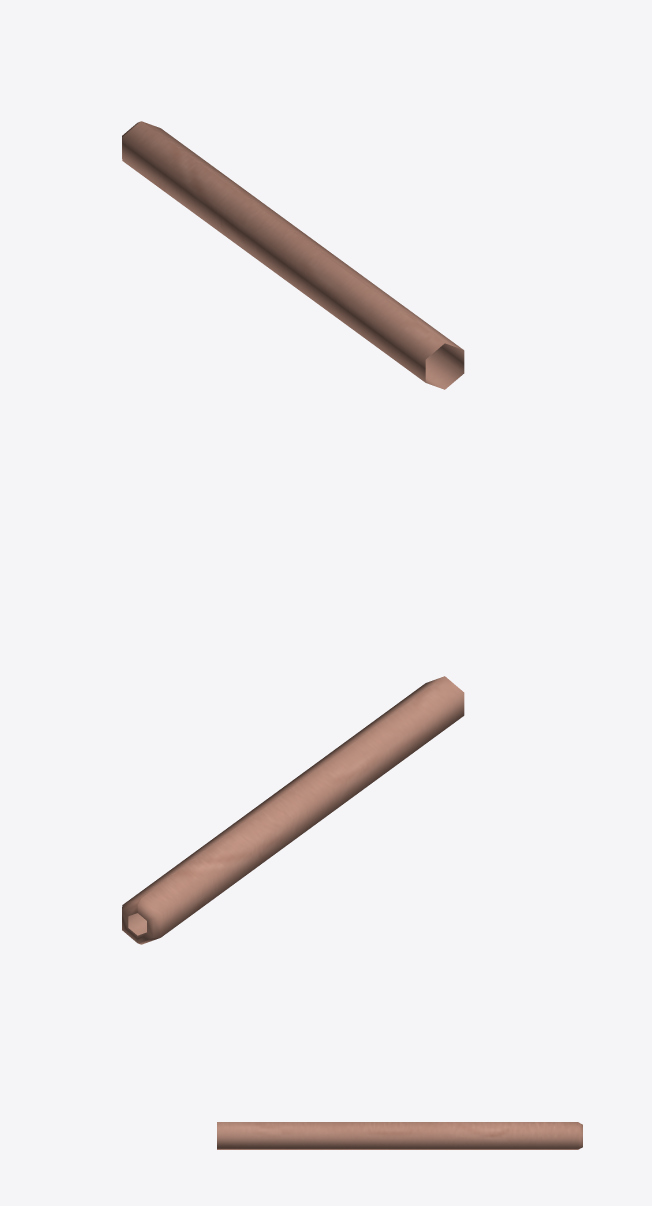
File: Lampadaires_Debarcadere.fbx
3 renders of one model, top to bottom at view 1: azimuth 30°, elevation 25°; view 2: azimuth 150°, elevation 25°; view 3: azimuth 270°, elevation 25°, orthographic. The views are drawn at different scales.
Visible parts, largest first — view 1: LampadaireFDM.007; view 2: LampadaireFDM.007; view 3: LampadaireFDM.007.
Part boxes in pixels (<box>): LampadaireFDM.007: <box>122,121,464,389</box>; LampadaireFDM.007: <box>122,676,464,944</box>; LampadaireFDM.007: <box>217,1122,582,1149</box>.
Bounding box in the file's own units: 52.7 × 60.85 × 309.
